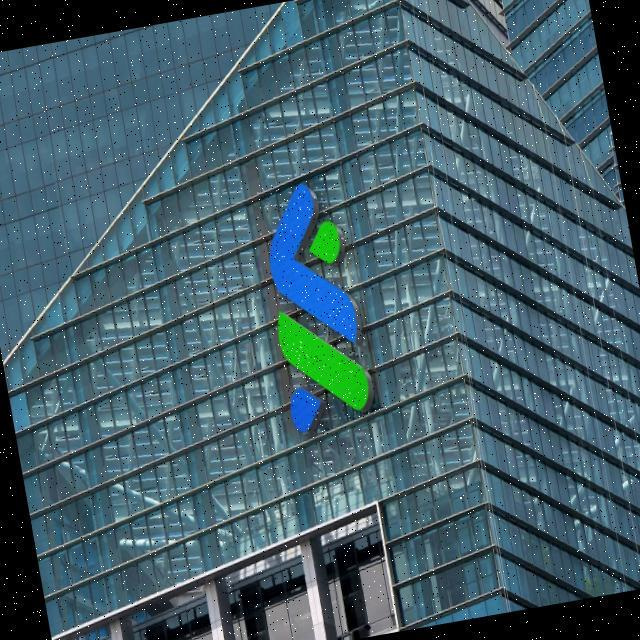Standard Chartered: (250, 173, 380, 441)
